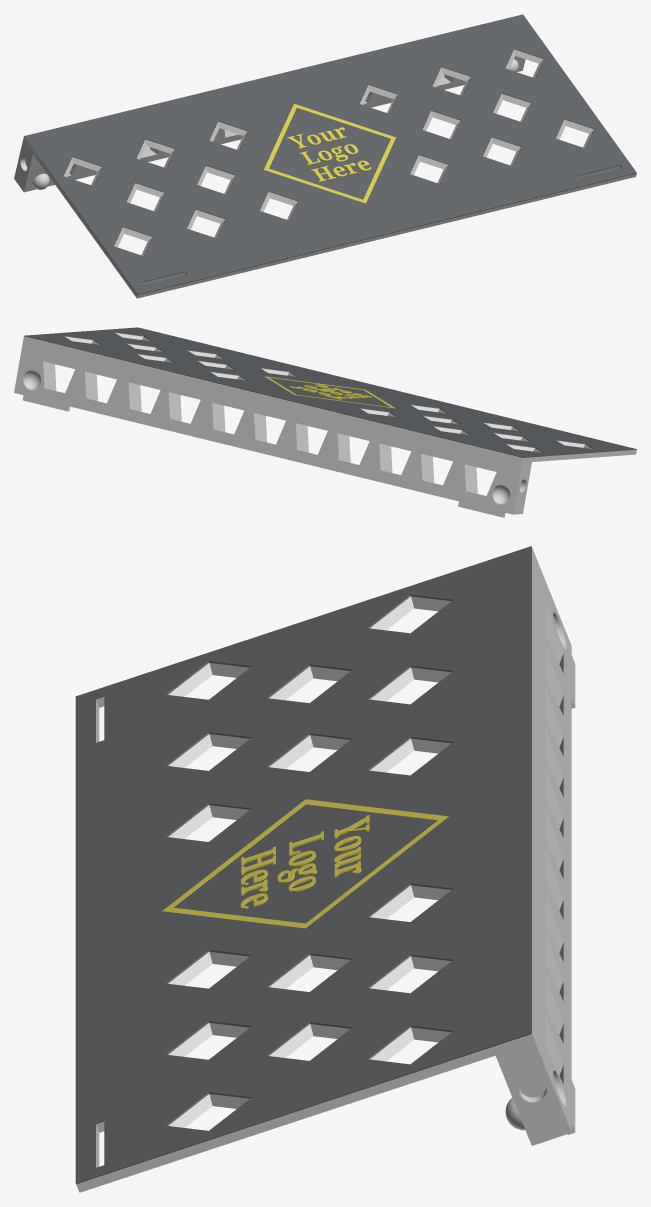
The model's file is Final_217_Risers.glb.
3 renders of one model, top to bottom at view 1: azimuth 30°, elevation 25°; view 2: azimuth 150°, elevation 25°; view 3: azimuth 270°, elevation 25°, orthographic. The views are drawn at different scales.
Parts seen in each view (by area): view 1: Mesh_Mesh_head_geo.001_lambert2SG.001; view 2: Mesh_Mesh_head_geo.001_lambert2SG.001; view 3: Mesh_Mesh_head_geo.001_lambert2SG.001.
Boxes of the visible parts, x1=… form: Mesh_Mesh_head_geo.001_lambert2SG.001: x1=14, y1=14, x2=636, y2=298; Mesh_Mesh_head_geo.001_lambert2SG.001: x1=14, y1=327, x2=636, y2=517; Mesh_Mesh_head_geo.001_lambert2SG.001: x1=75, y1=546, x2=575, y2=1192.
Size of the model in its own units: 218 by 33.26 by 94.3.
